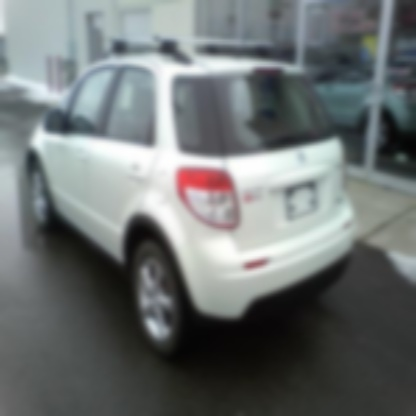Vehicle: (25, 34, 357, 364)
